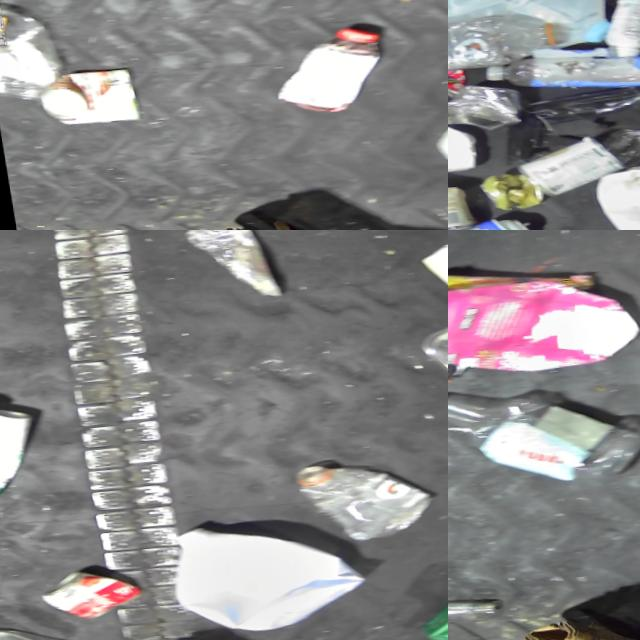can: (507, 129, 621, 200), (26, 62, 138, 131), (26, 561, 138, 625), (448, 78, 519, 136), (471, 166, 543, 214), (448, 171, 472, 230)
milk_jug: (157, 508, 366, 640), (448, 0, 609, 60), (412, 43, 448, 169), (586, 155, 640, 230)
non_white_jug: (448, 264, 637, 383), (405, 565, 448, 640)
plastic_bottle: (448, 365, 640, 501), (282, 448, 434, 548), (479, 41, 640, 102), (448, 6, 570, 80), (168, 230, 281, 305), (448, 580, 492, 634)
